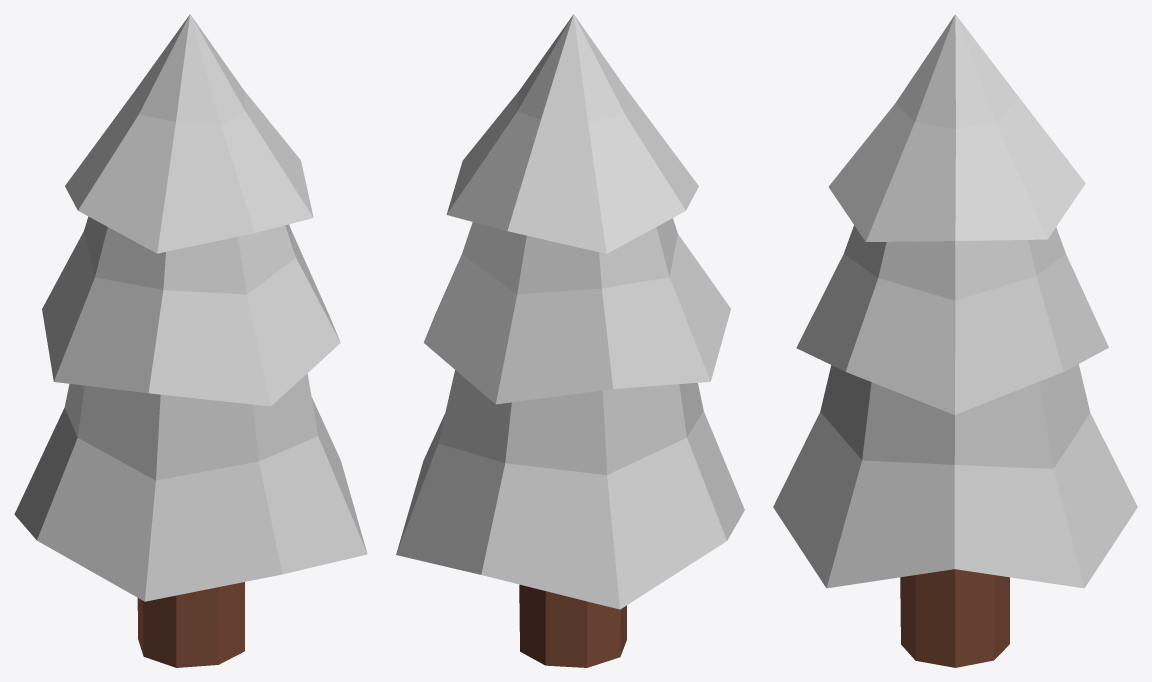
Rendered from Gran.fbx.
The picture shows the model from 3 angles, left to right: view 1: azimuth 30°, elevation 25°; view 2: azimuth 150°, elevation 25°; view 3: azimuth 270°, elevation 25°; orthographic projection.
Parts seen in each view (by area): view 1: Tree_01_autumn_mat; view 2: Tree_01_autumn_mat; view 3: Tree_01_autumn_mat.
Boxes of the visible parts, x1,y1,x2,y2 form: Tree_01_autumn_mat: (14,14,367,667); Tree_01_autumn_mat: (396,14,744,667); Tree_01_autumn_mat: (773,14,1137,667).
Size of the model in its own units: 1111 by 2206 by 1158.
